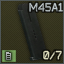M45A1 .45 ACP 7-round magazine: (0, 0, 64, 64)
